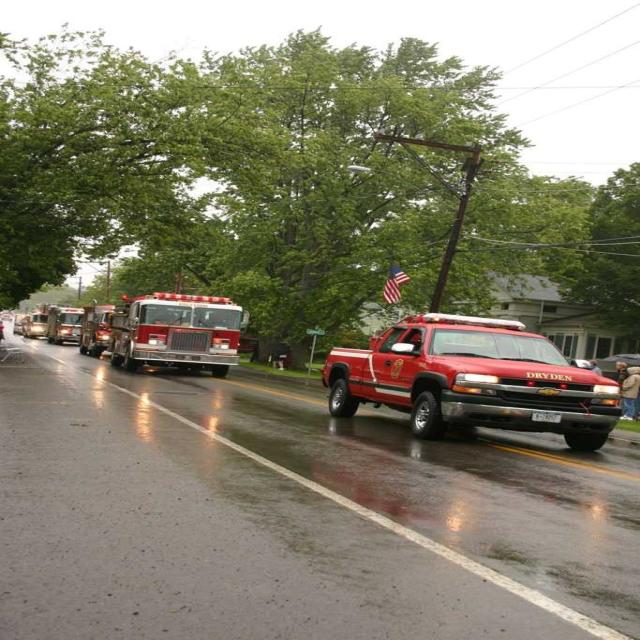ambulance: (86, 283, 329, 297)
